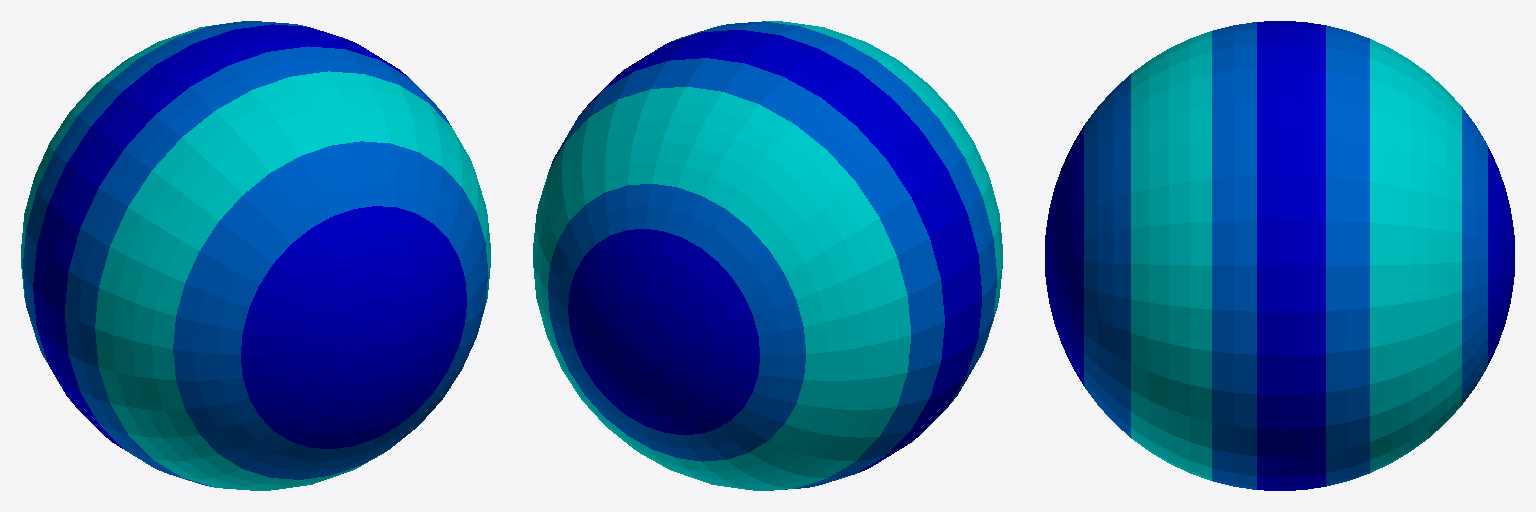
File: cold_planet.obj
3 views of the same model, side by side, from view 1: azimuth 30°, elevation 25°; view 2: azimuth 150°, elevation 25°; view 3: azimuth 270°, elevation 25° (orthographic).
Size of the model in its own units: 2 by 2 by 2.